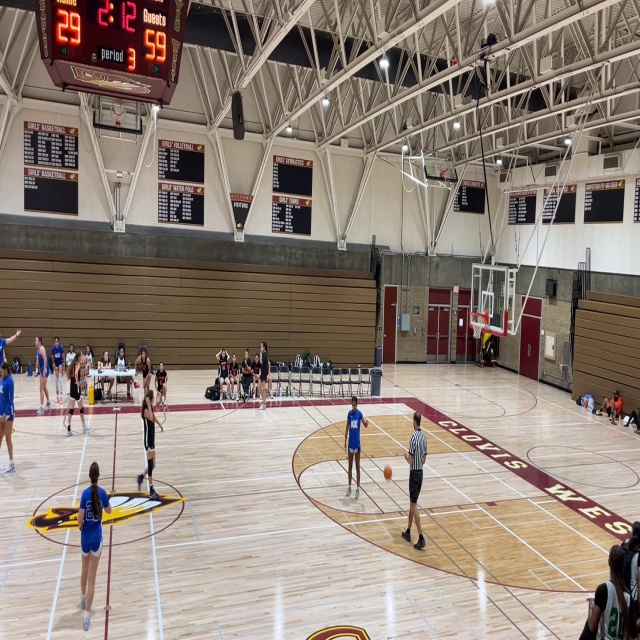Basketball: (383, 465, 392, 479)
